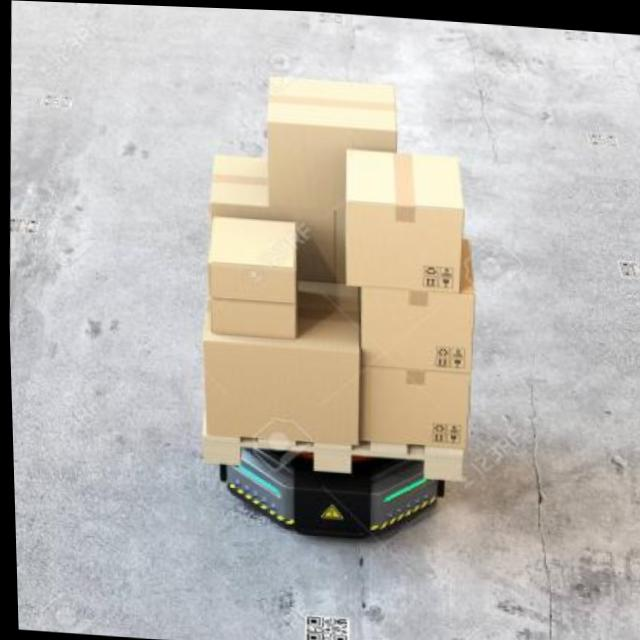box: (325, 132, 487, 297), (250, 61, 415, 219), (184, 297, 358, 445), (345, 252, 489, 368), (192, 211, 313, 339), (346, 347, 479, 456), (196, 147, 267, 234)
